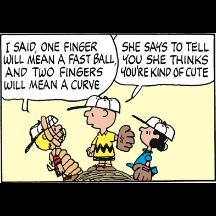charlie: (84, 95, 136, 171)
